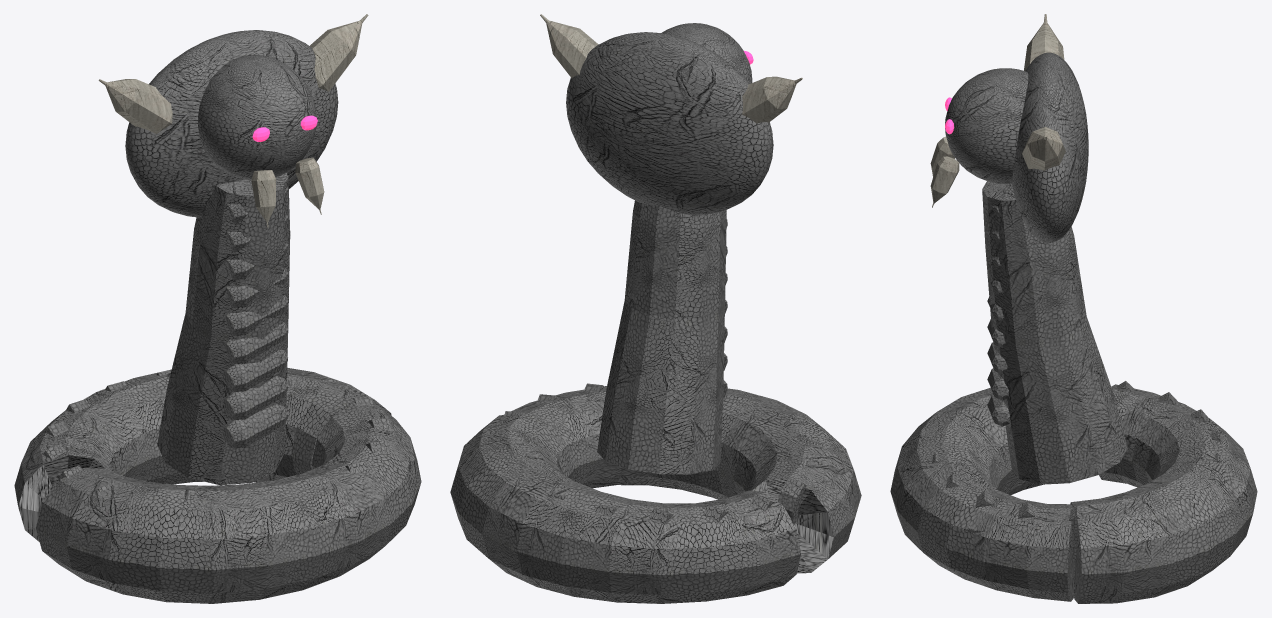
File: boss_serpent.glb
3 renders of one model, left to right at view 1: azimuth 30°, elevation 25°; view 2: azimuth 150°, elevation 25°; view 3: azimuth 270°, elevation 25°, orthographic. The views are drawn at different scales.
Parts seen in each view (by area): view 1: Coiled scaled body, Rising serpentine neck, Spread cobra hood, Hooded skull, Hood spine, Hood spine.001, Neck scute, Neck scute.001, Neck scute.002, Neck scute.003, Curved fang.001, Curved fang (+2 smaller); view 2: Coiled scaled body, Rising serpentine neck, Spread cobra hood, Hood spine, Hooded skull, Hood spine.001, Coil armour scale.009; view 3: Coiled scaled body, Rising serpentine neck, Spread cobra hood, Hooded skull, Hood spine.001, Hood spine, Curved fang.001, Neck scute.
Boxes of the visible parts, x1,y1,x2,y2 form: Coiled scaled body: [14, 367, 421, 603]; Rising serpentine neck: [157, 173, 290, 485]; Spread cobra hood: [125, 30, 338, 217]; Hooded skull: [198, 55, 316, 180]; Hood spine: [98, 79, 172, 133]; Hood spine.001: [310, 14, 368, 91]; Neck scute: [222, 404, 287, 447]; Neck scute.001: [222, 376, 287, 419]; Neck scute.002: [223, 349, 287, 391]; Neck scute.003: [224, 322, 288, 363]; Curved fang.001: [295, 157, 324, 214]; Curved fang: [251, 170, 276, 227]; Coiled scaled body: [450, 386, 861, 603]; Rising serpentine neck: [597, 200, 726, 474]; Spread cobra hood: [566, 32, 773, 215]; Hood spine: [742, 76, 802, 123]; Hooded skull: [661, 23, 752, 83]; Hood spine.001: [540, 14, 598, 78]; Coil armour scale.009: [778, 477, 806, 525]; Coiled scaled body: [890, 384, 1257, 603]; Rising serpentine neck: [982, 181, 1127, 484]; Spread cobra hood: [1012, 52, 1088, 242]; Hooded skull: [945, 68, 1028, 183]; Hood spine.001: [1022, 127, 1065, 170]; Hood spine: [1024, 14, 1064, 70]; Curved fang.001: [930, 156, 959, 207]; Neck scute: [987, 394, 1010, 426].
Size of the model in its own units: 2.45 by 3.29 by 2.29.
Materials: 4 (3 with a texture image).
